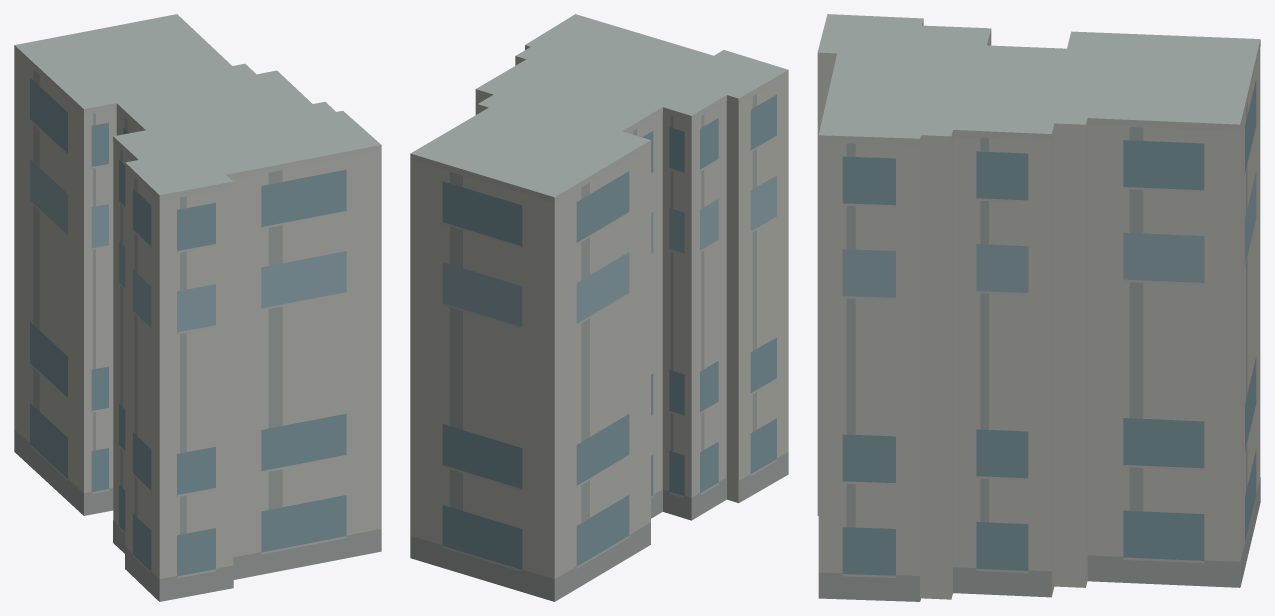
File: survey-upis-32784304.glb
3 views of the same model, side by side, from view 1: azimuth 30°, elevation 25°; view 2: azimuth 150°, elevation 25°; view 3: azimuth 270°, elevation 25° (orthographic). The views are drawn at different scales.
Visible parts, largest first — view 1: survey-upis-32784304.tmp; view 2: survey-upis-32784304.tmp; view 3: survey-upis-32784304.tmp.
Part boxes in pixels (x1,y1,x2,y2): survey-upis-32784304.tmp: (14, 14, 381, 601); survey-upis-32784304.tmp: (410, 14, 788, 601); survey-upis-32784304.tmp: (817, 14, 1260, 601).
Bounding box in the file's own units: 9.24 × 16 × 13.88.
